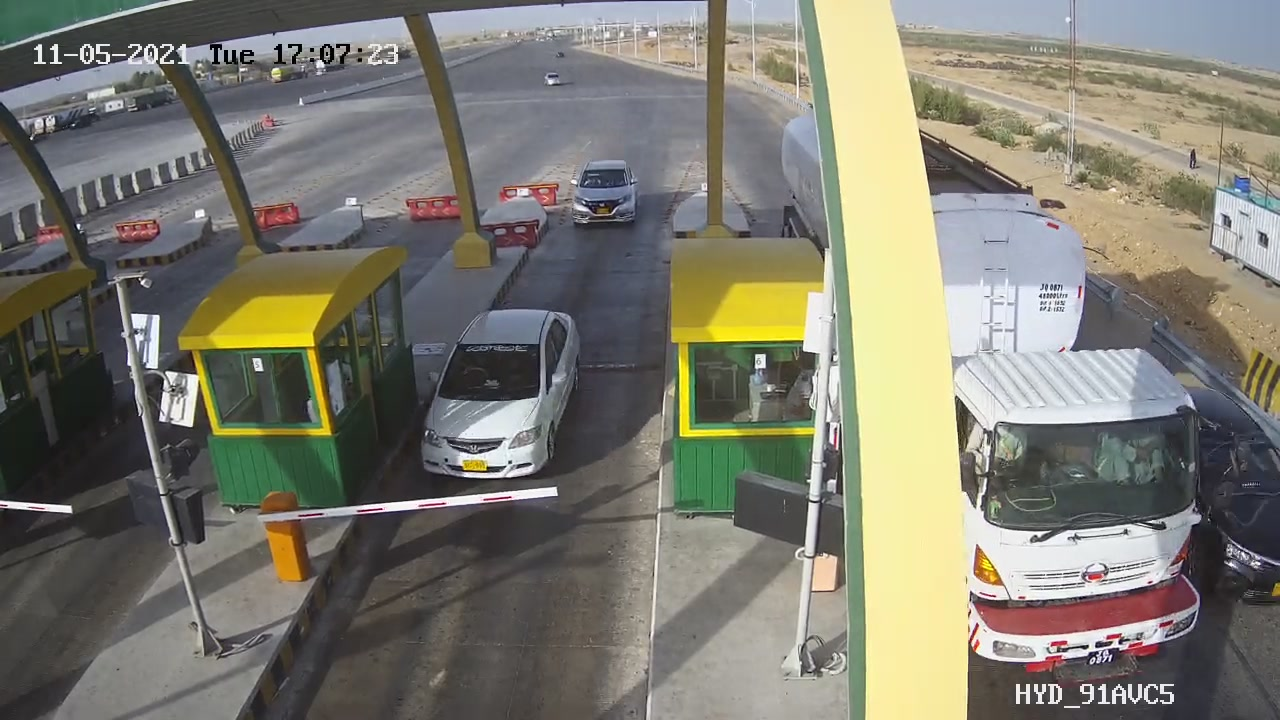F1: (398, 294, 600, 490)
